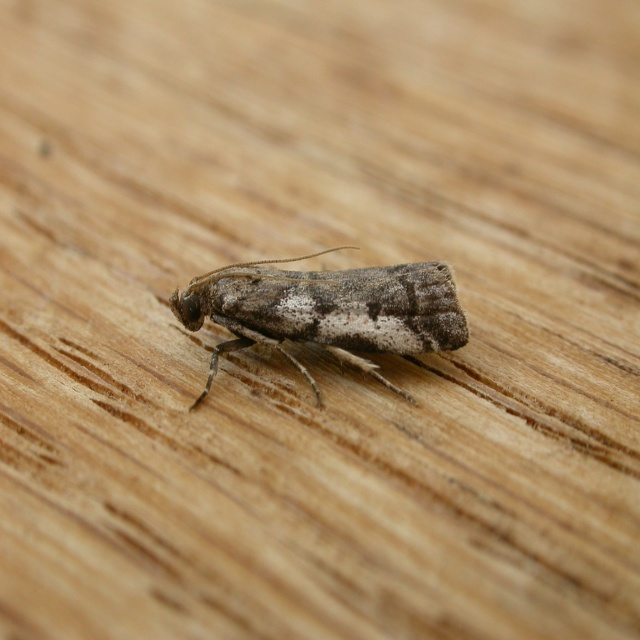Moths and butterflies: (169, 244, 474, 410)
